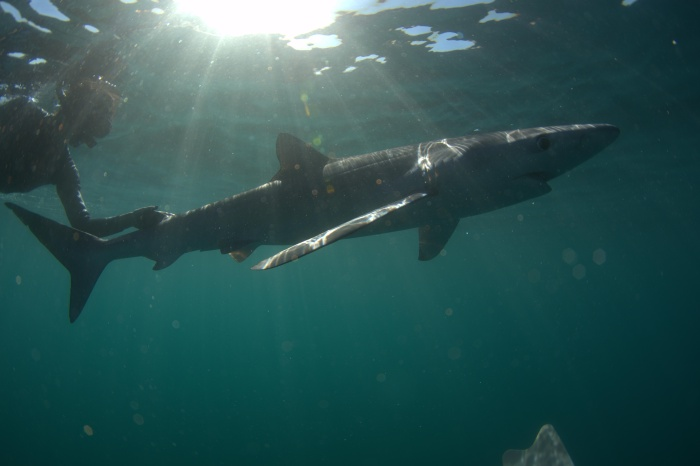Azul: (1, 104, 674, 335)
